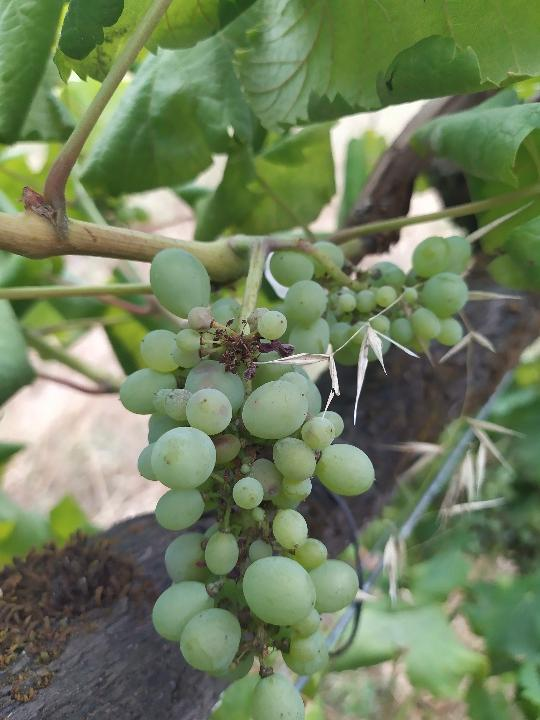grape: (115, 244, 377, 720)
